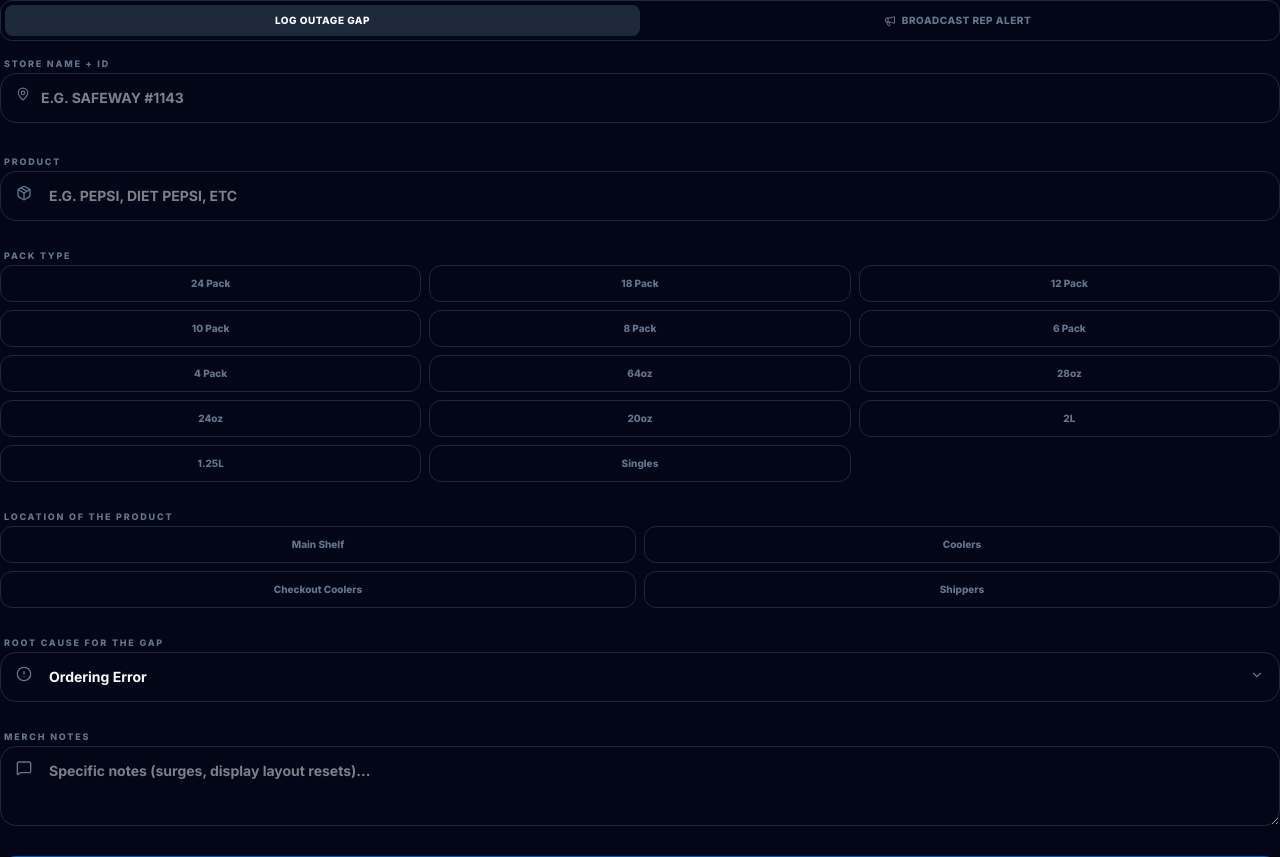
it: StockoutForm › submits a broadcast alert when required fields are provided
Click the button "Broadcast Rep Alert": (958, 20) [640,5,1275,36]
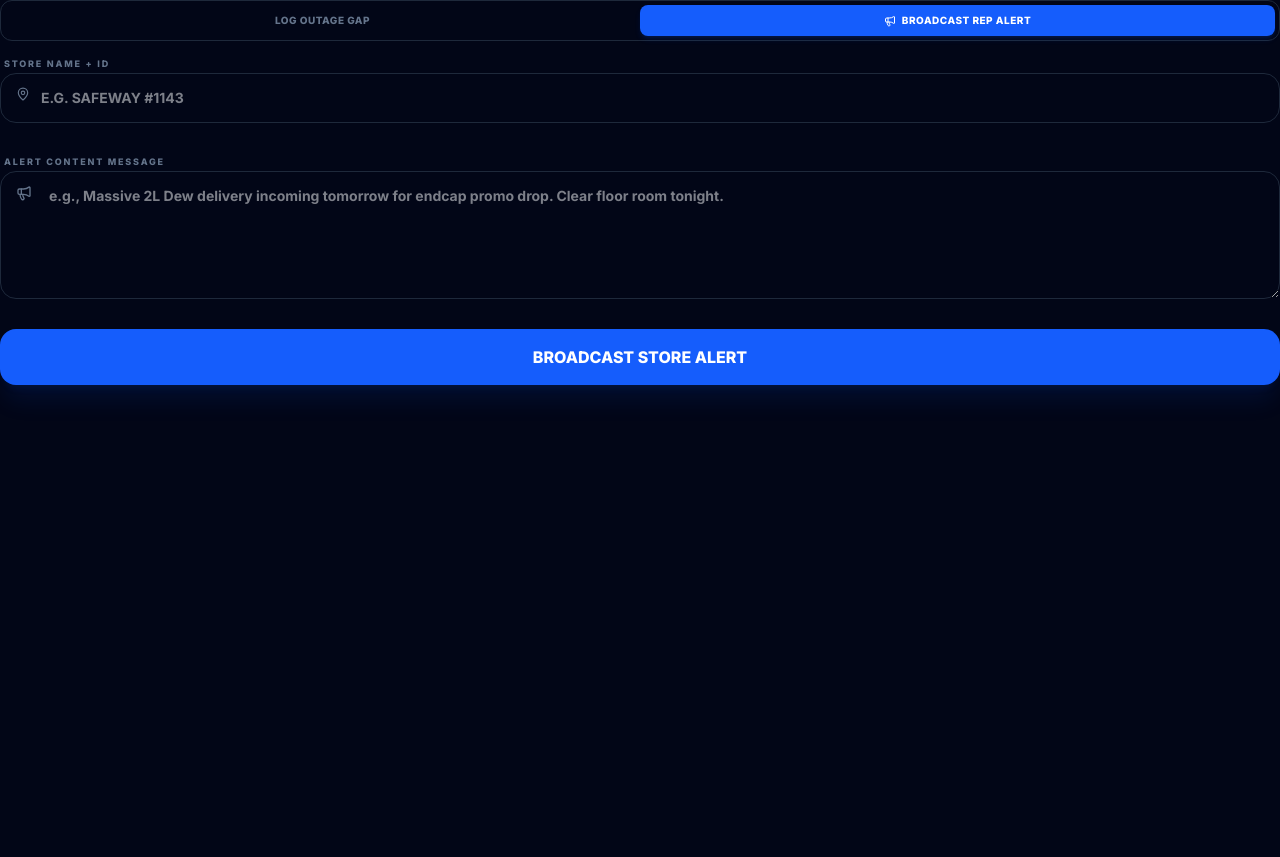
In the field with placeholder "e.g. Safeway #1143": (640, 98) [0,73,1279,123], type "5406"
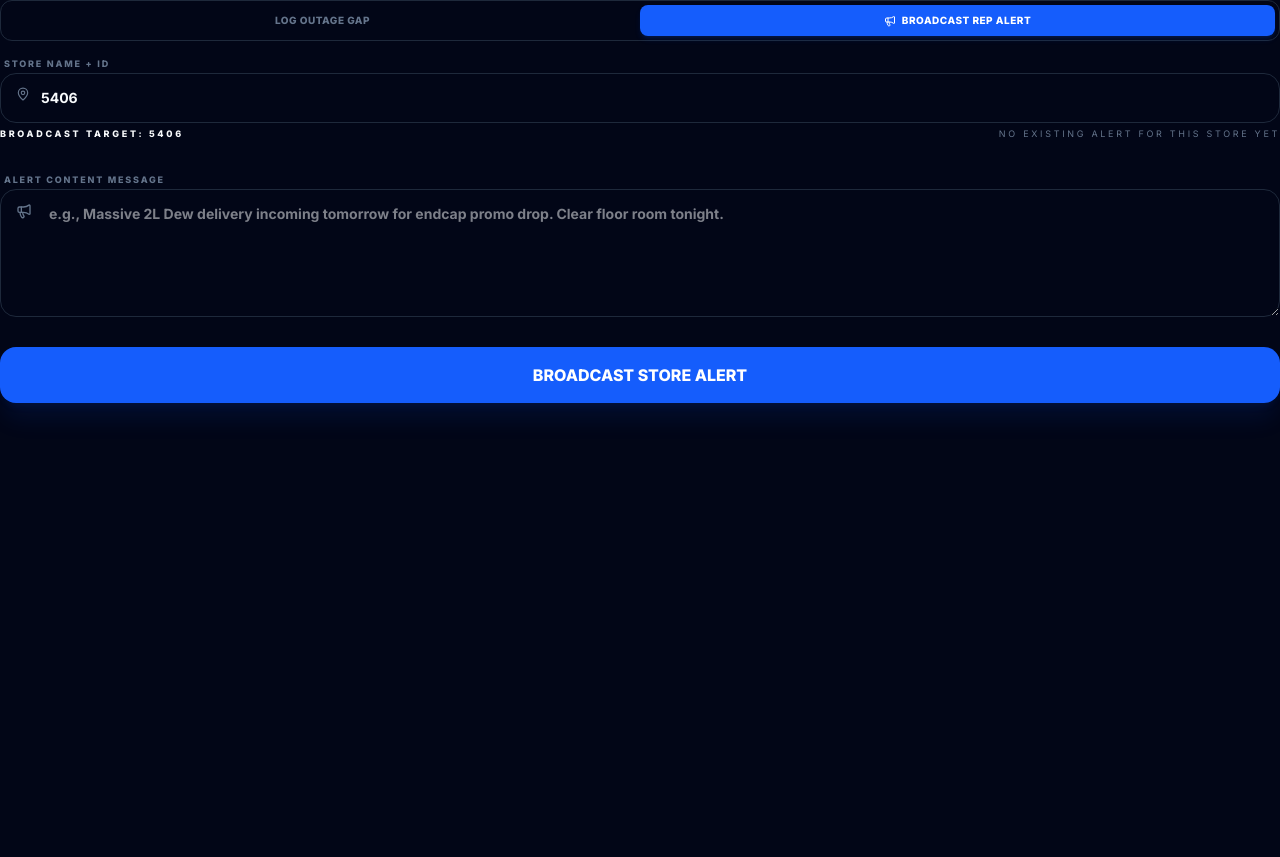
Replace the text in the text box with placeholder "e.g., Massive 2L Dew delivery incoming tomorrow" with "Route alert": (640, 252) [0,188,1279,316]
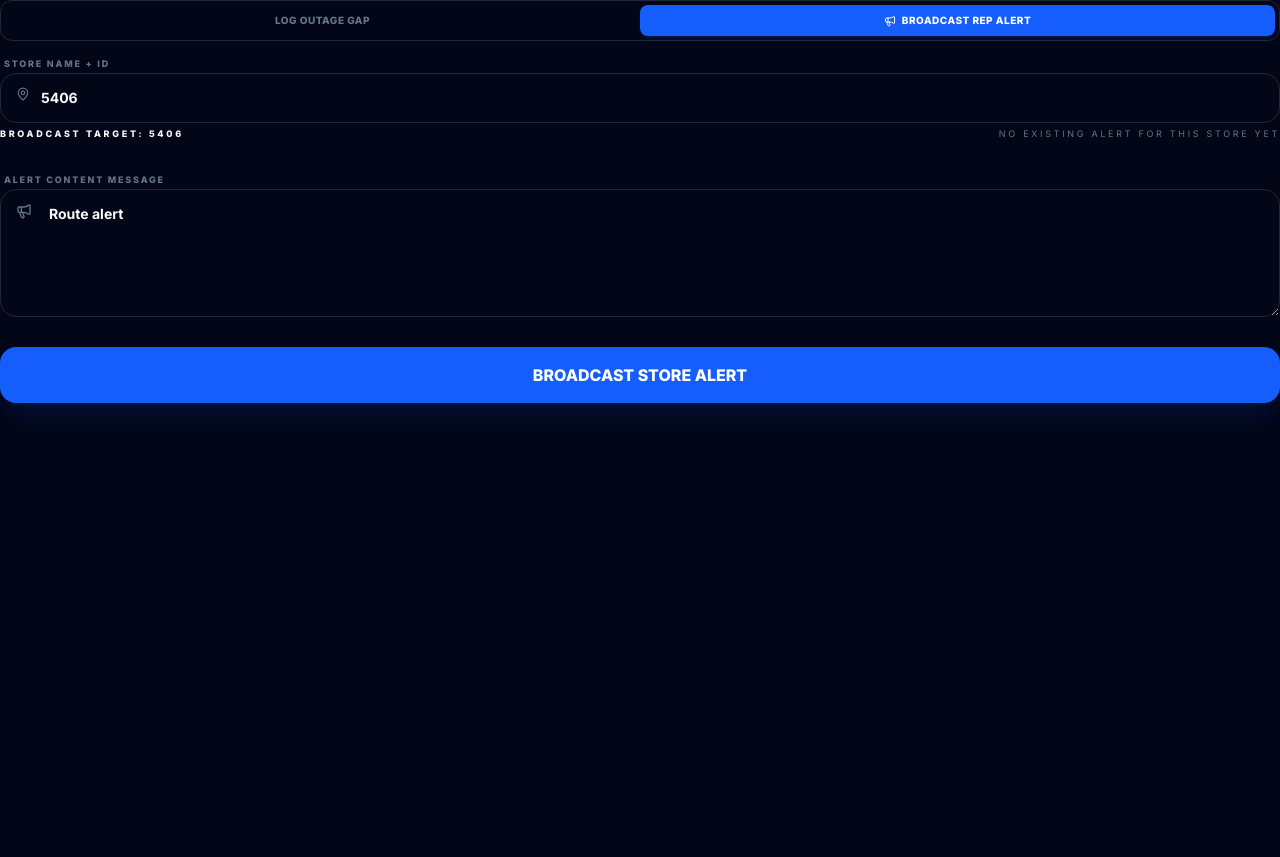
Click the button "BROADCAST STORE ALERT": (640, 374) [0,346,1279,402]
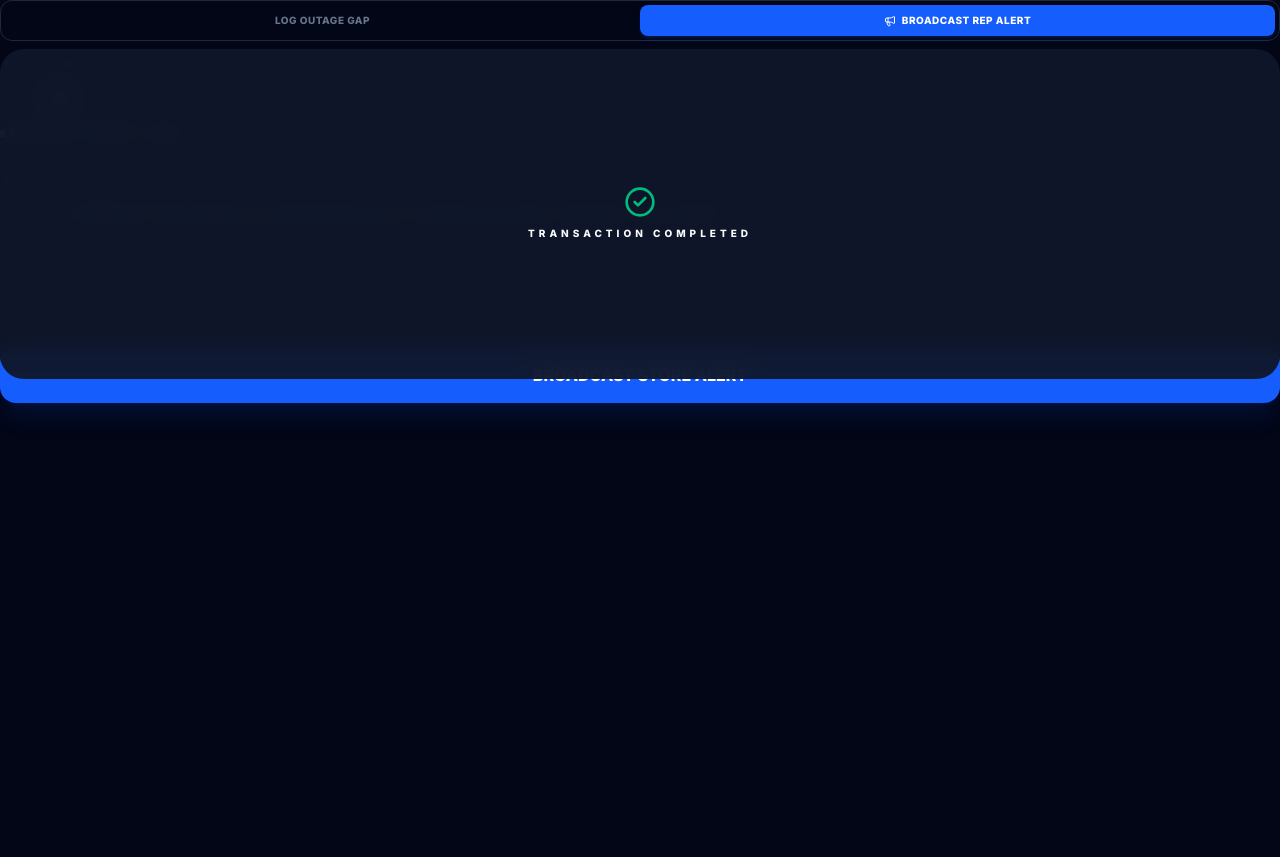
Check: the text "Transaction Completed" is shown, box [528,226,752,241]
Check: the text box with placeholder "e.g., Massive 2L Dew delivery incoming tomorrow" is empty, box [0,188,1279,316]
